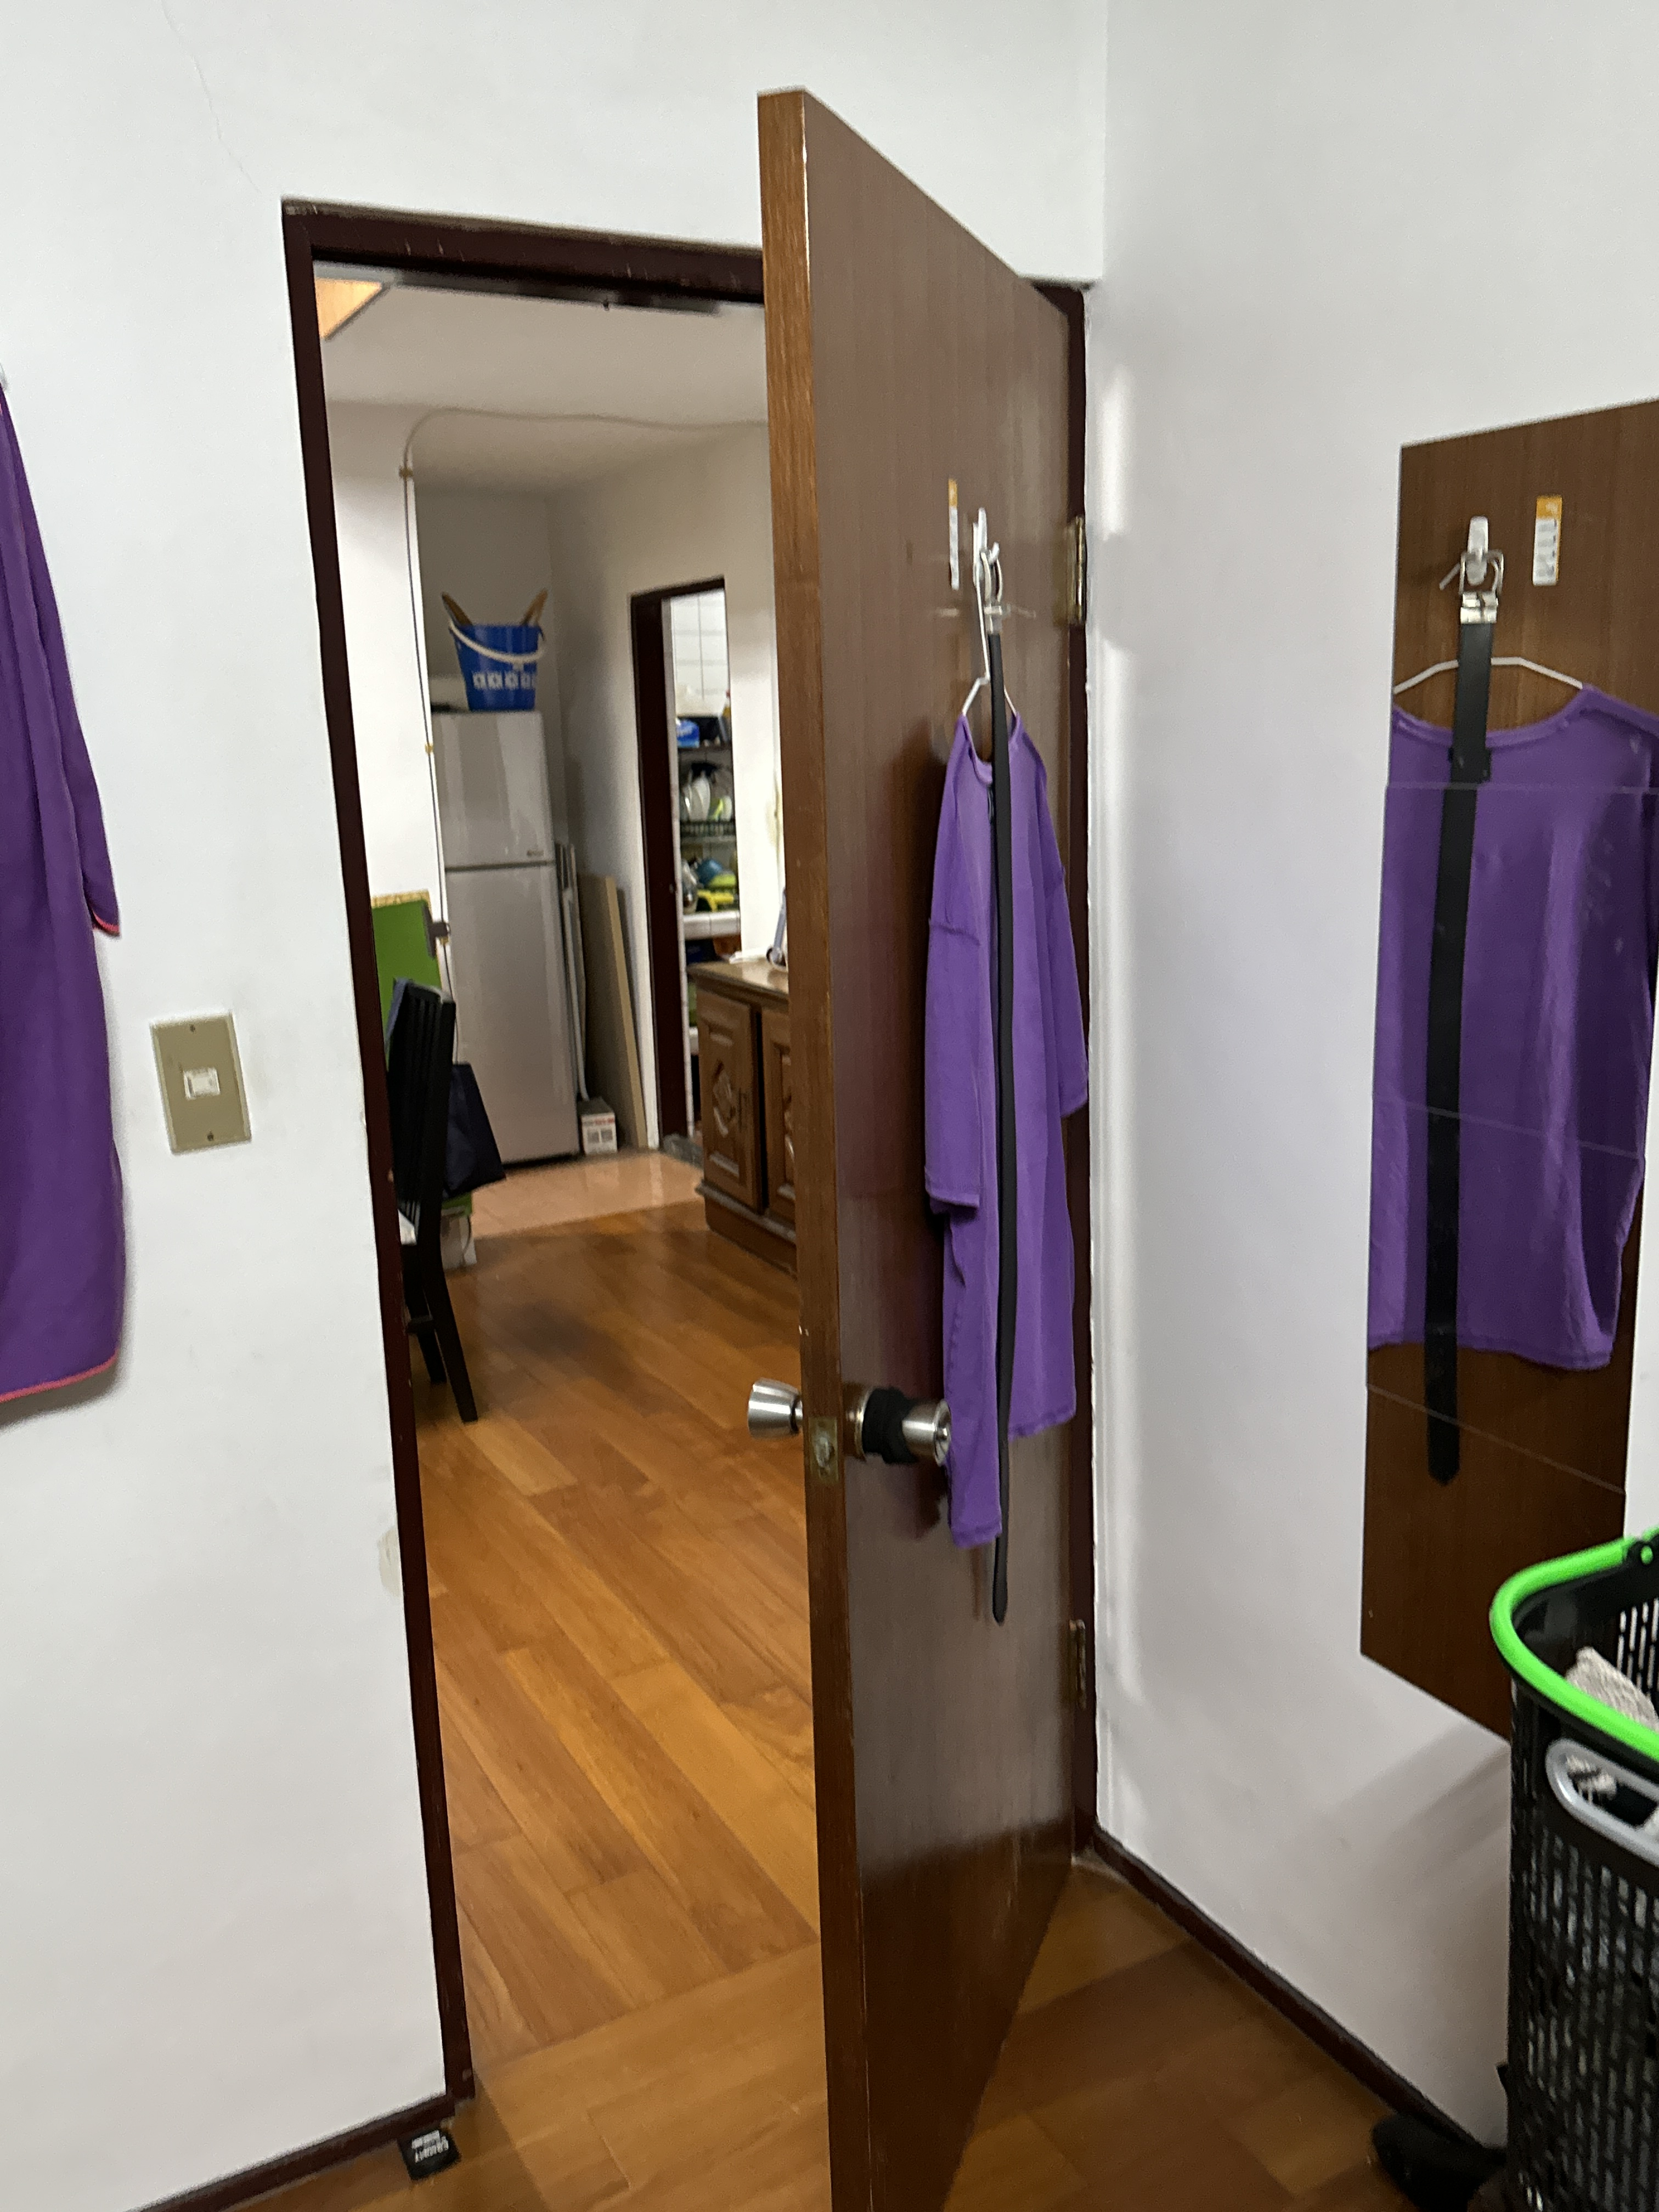Door Open: (314, 207, 1206, 2209)
